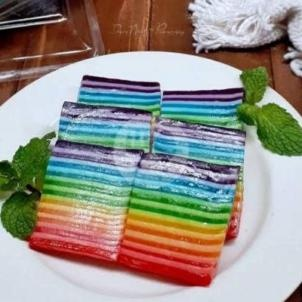kue_lapis_pelangi: (114, 152, 239, 286), (26, 139, 143, 262)
